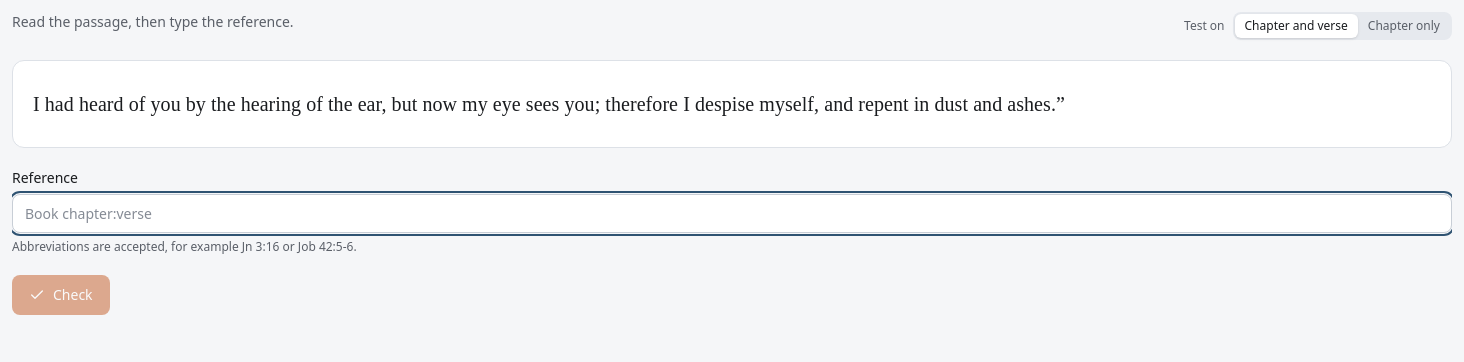
it: QuizReferenceMode › rejects book and chapter without verse numbers
The width and height of the screenshot is (1464, 362).
Type "Job 42" into the field labelled "Reference" at (732, 214), box [12,194,1452,233]
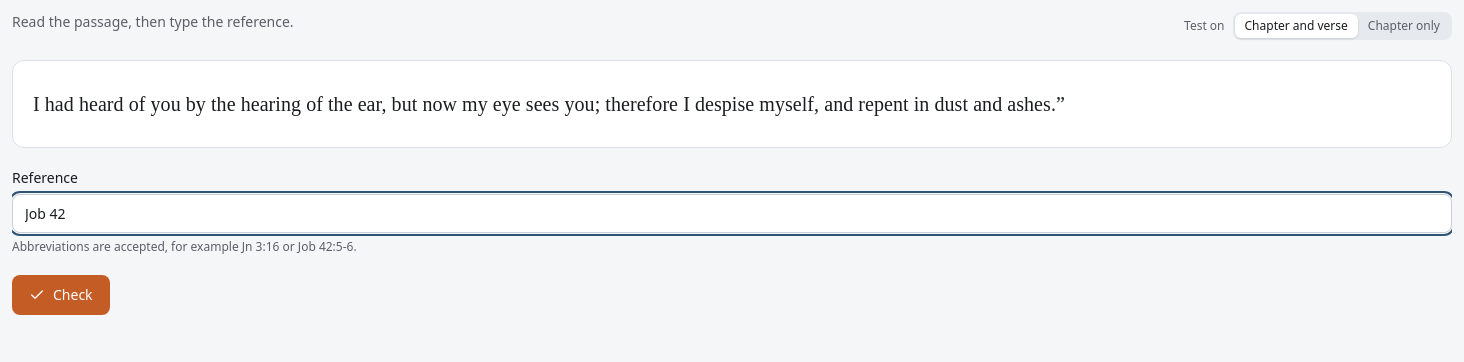
Click the button "Check" at (61, 295), box [12,275,110,315]
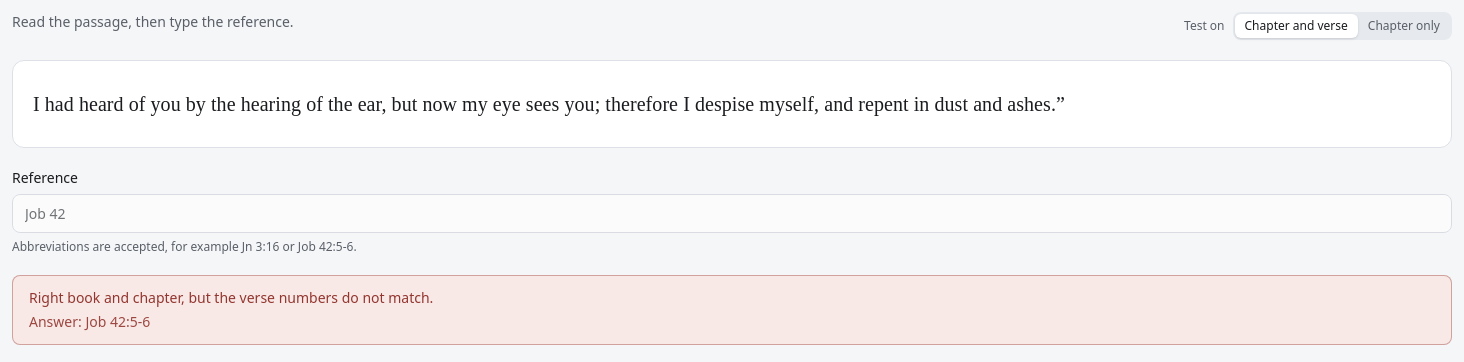
expect the message shows "verse numbers": met, box [29,288,433,307]
